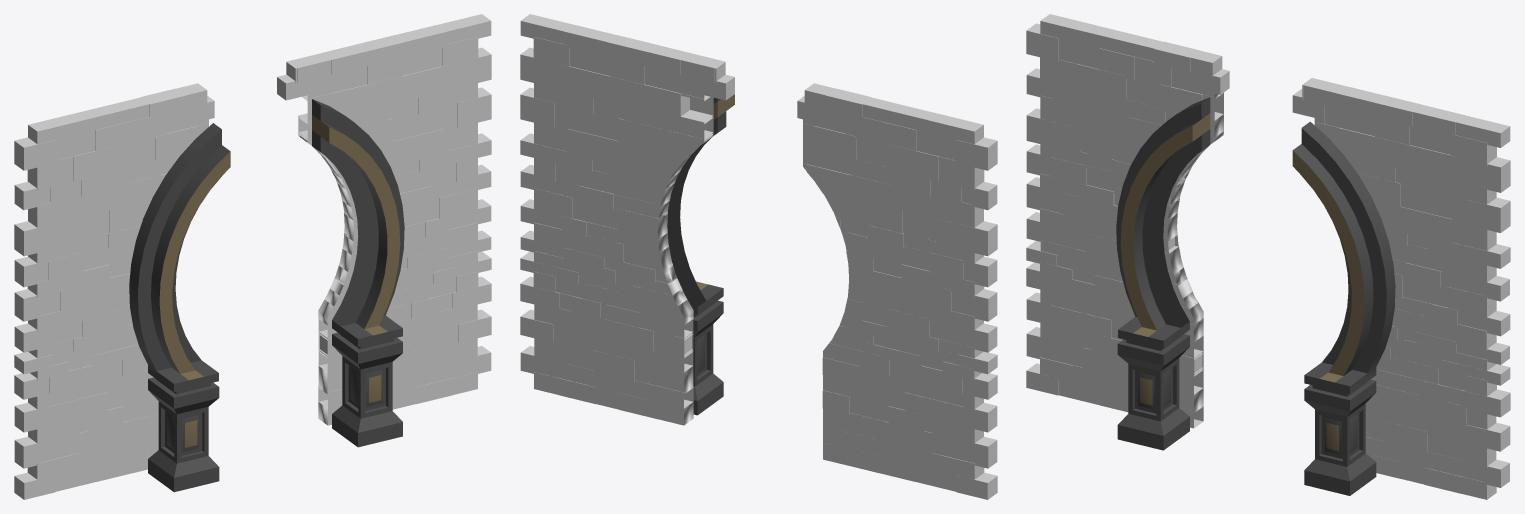
File: SeaGate.fbx
The picture shows the model from 3 angles, left to right: view 1: azimuth 30°, elevation 25°; view 2: azimuth 150°, elevation 25°; view 3: azimuth 330°, elevation 25°; orthographic projection.
Parts seen in each view (by area): view 1: Wall, Cube; view 2: Wall, Cube; view 3: Wall, Cube.
Part boxes in pixels (box(x1,y1,x2,y2)): Wall: box(14, 14, 491, 499); Cube: box(129, 99, 404, 492); Wall: box(520, 14, 997, 499); Cube: box(667, 94, 734, 415); Wall: box(1026, 14, 1510, 499); Cube: box(1116, 97, 1395, 495).
Bounding box in the file's own units: 2076 × 1547 × 306.
